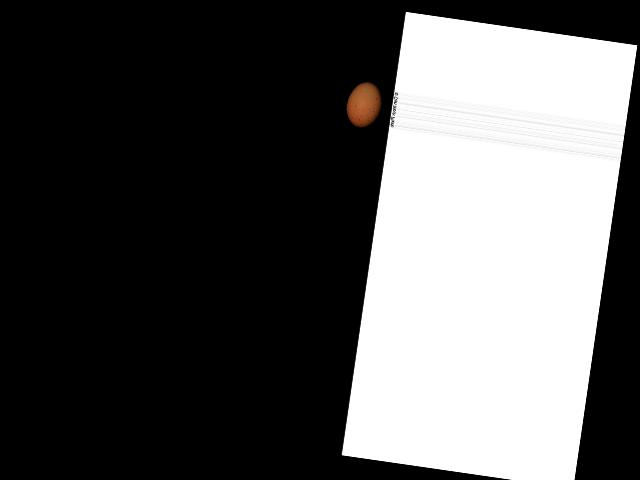egg: (344, 79, 385, 130)
